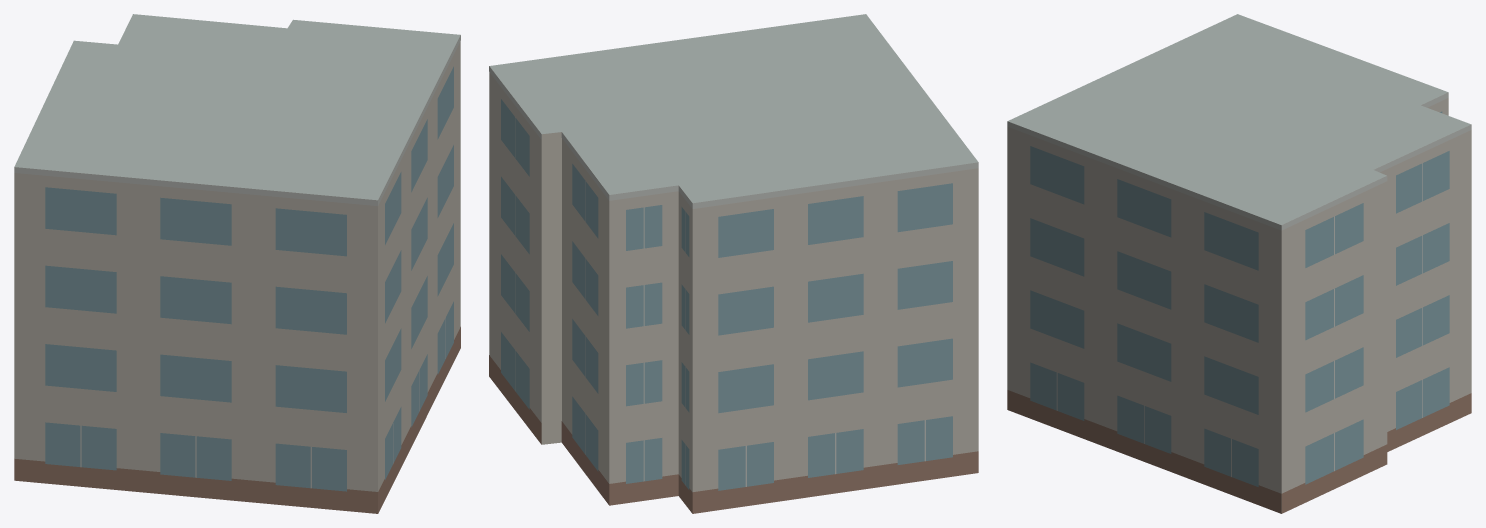
File: survey-upis-32863039.glb
3 views of the same model, side by side, from view 1: azimuth 30°, elevation 25°; view 2: azimuth 150°, elevation 25°; view 3: azimuth 270°, elevation 25° (orthographic). The views are drawn at different scales.
Visible parts, largest first — view 1: survey-upis-32863039.tmp; view 2: survey-upis-32863039.tmp; view 3: survey-upis-32863039.tmp.
Part boxes in pixels (bbox=[...]): survey-upis-32863039.tmp: bbox=[14, 14, 460, 513]; survey-upis-32863039.tmp: bbox=[489, 14, 978, 513]; survey-upis-32863039.tmp: bbox=[1007, 14, 1471, 513].
Bounding box in the file's own units: 20.4 × 12.99 × 18.94.
